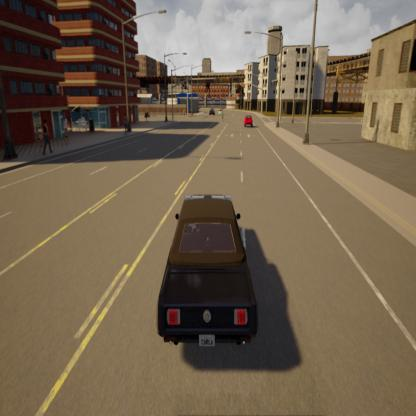Cars: (154, 194, 260, 343), (244, 112, 257, 130)
Pedestrian: (41, 119, 55, 161), (121, 109, 132, 142)
